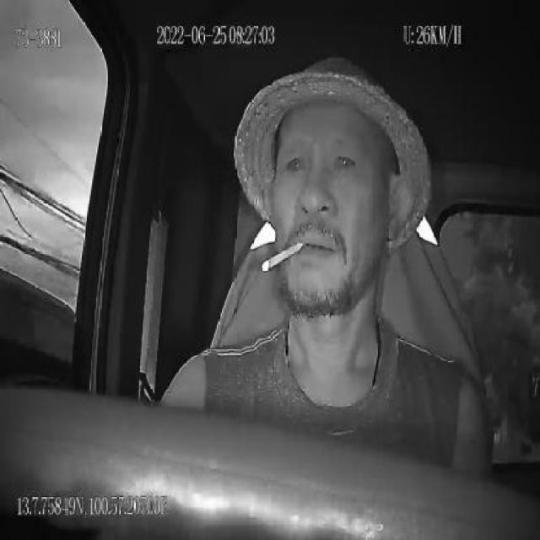smoking: (261, 242, 305, 276)
